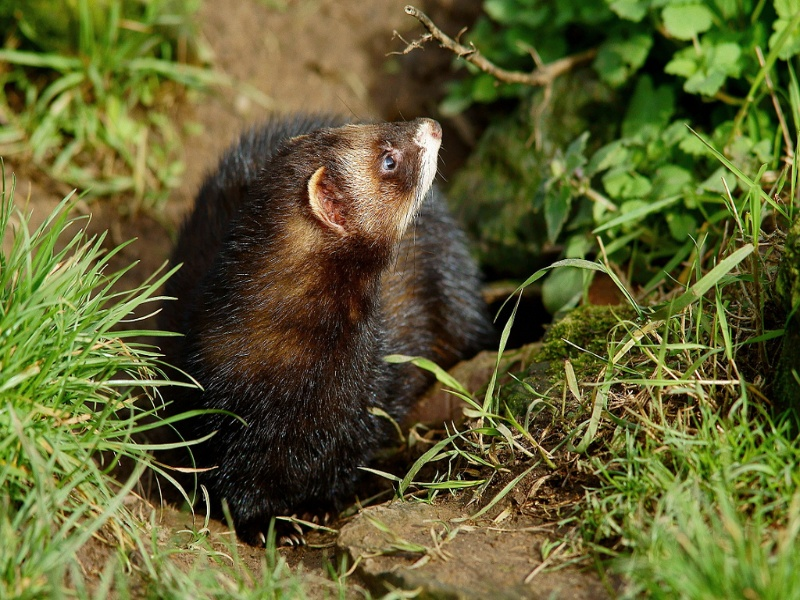minkish: (165, 100, 484, 554)
